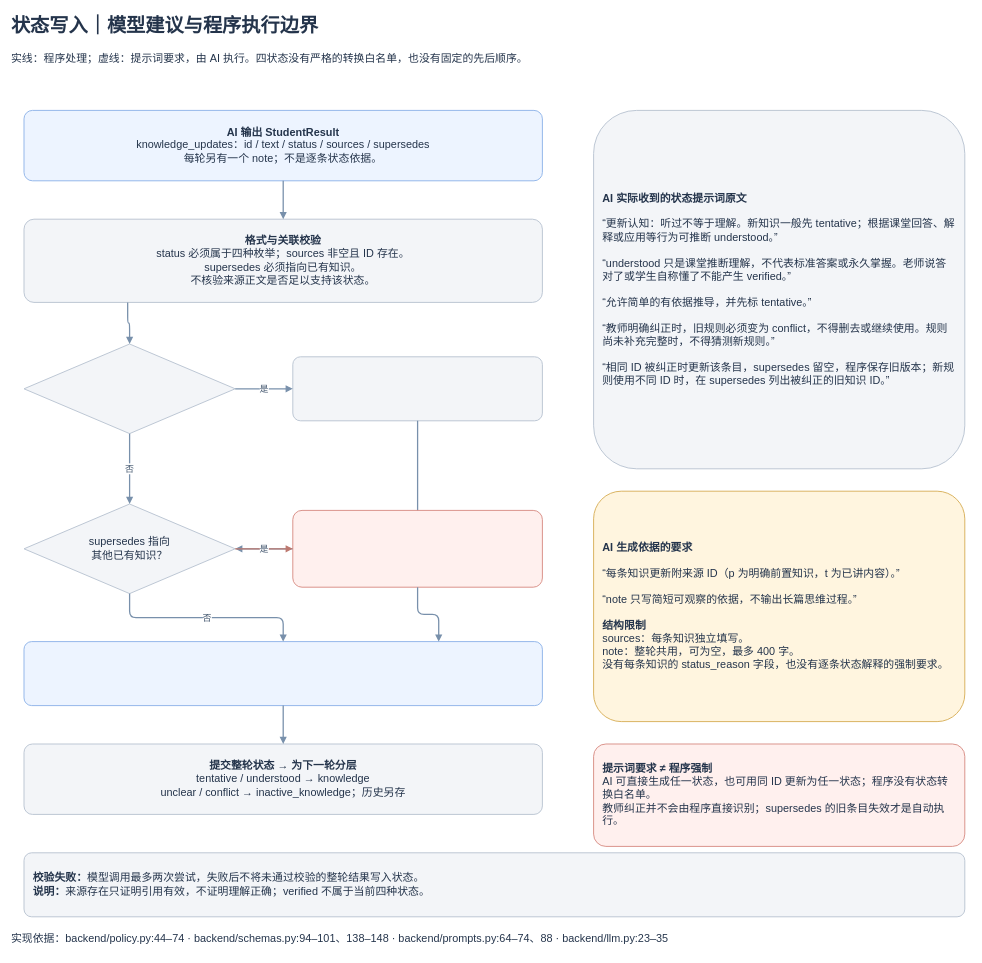
This 982x963 diagram has some shape labels left out. The box of each missing label's shape, as (x1, y1, x2, y2) in pixels:
保存旧版本 写入 knowledge_history 同 ID 修改本身不会自动把旧版本改为 conflict。: (292, 356, 543, 421)
写入 AI 给出的当前条目 known[item.id] = item 新建或覆盖；程序不强制升级、降级或转换顺序。: (23, 641, 543, 706)
已有同 ID 条目， 且内容或状态发生变化？: (23, 343, 235, 434)
被替代旧条目 → conflict 旧状态不是 conflict 时： 先保存旧版本，再自动改为 conflict。 这是程序强制执行的状态转换。: (292, 510, 543, 587)
